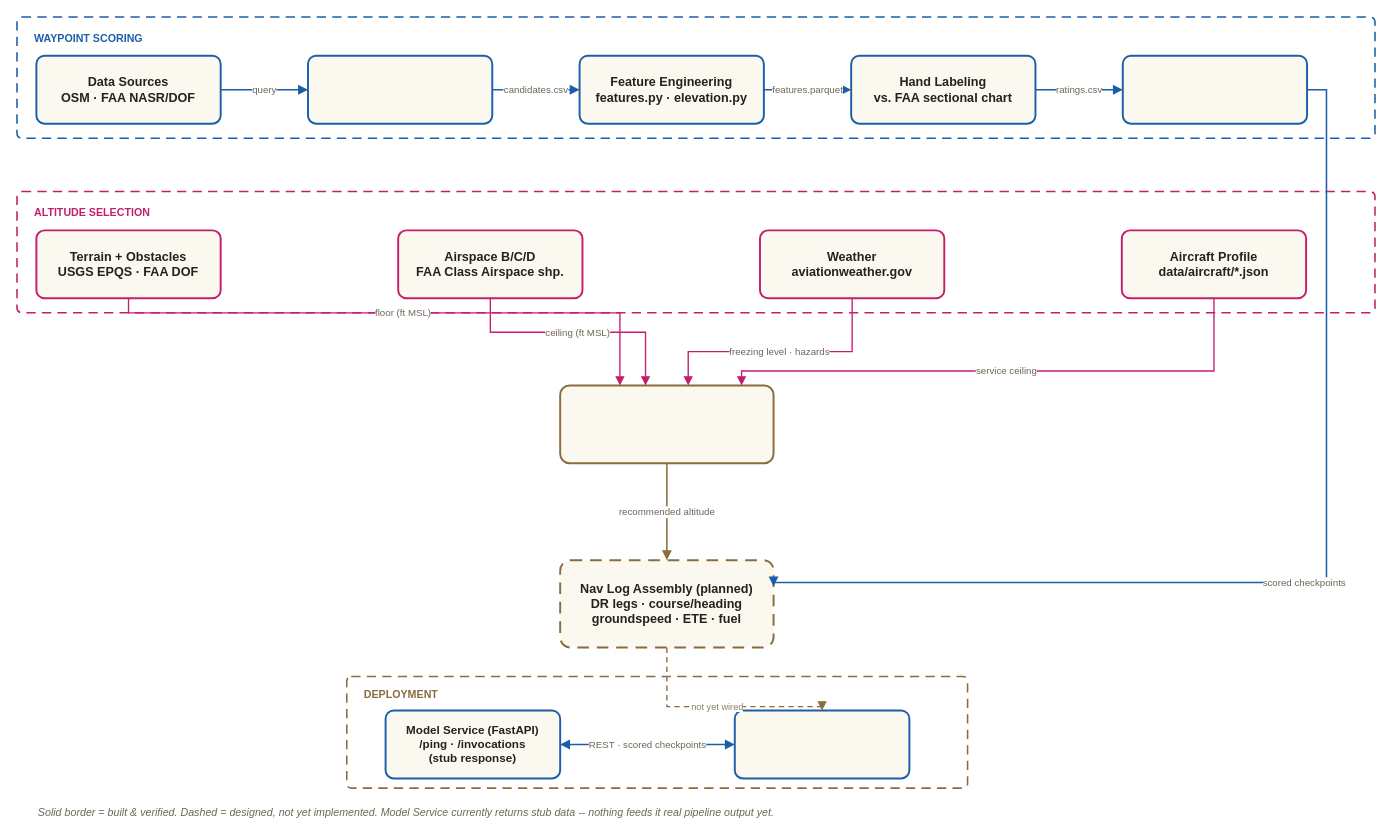
The diagram is 1393 pixels wide and 839 high, and some of its shapes have lost their labels. The shapes that lost their labels are listed below. From the top down, each one's centre as x and y in pixels, then its label:
the point at 400,89: Candidate Collection osm.py · faa_data.py
the point at 1214,89: ML Models sklearn · PyTorch/TF HuggingFace · Spark
the point at 666,424: Combine notebook 08 FAR 91.159 rounding
the point at 821,744: Spring Boot API Postgres · saved routes → northflyers.com
